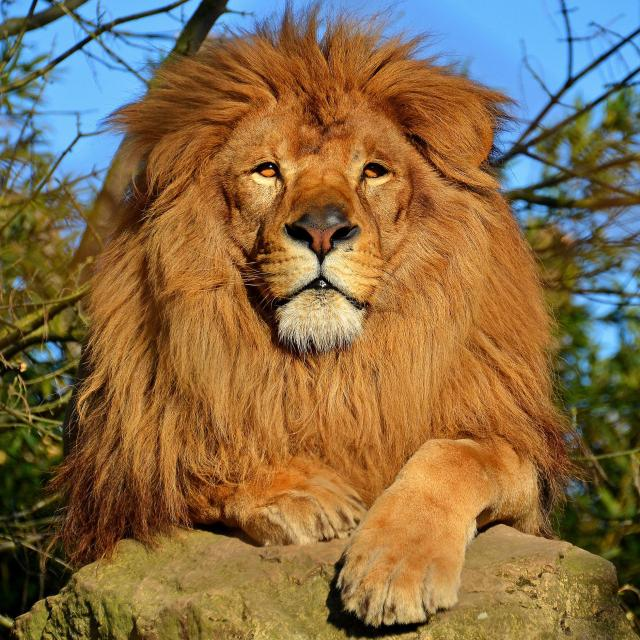Lion: (62, 13, 577, 620)
